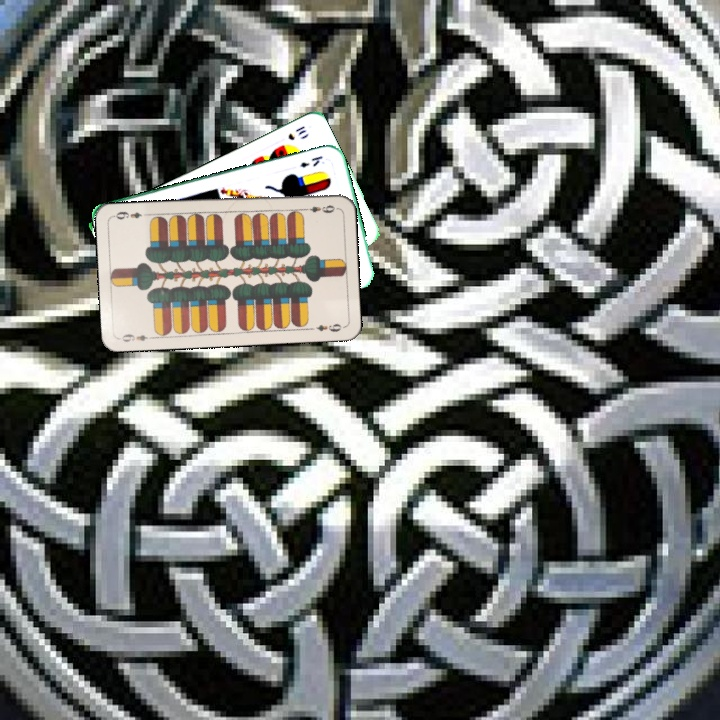E9: (116, 330, 157, 344), (299, 201, 339, 215)
EK: (296, 152, 325, 170)
S10: (284, 121, 309, 143)
